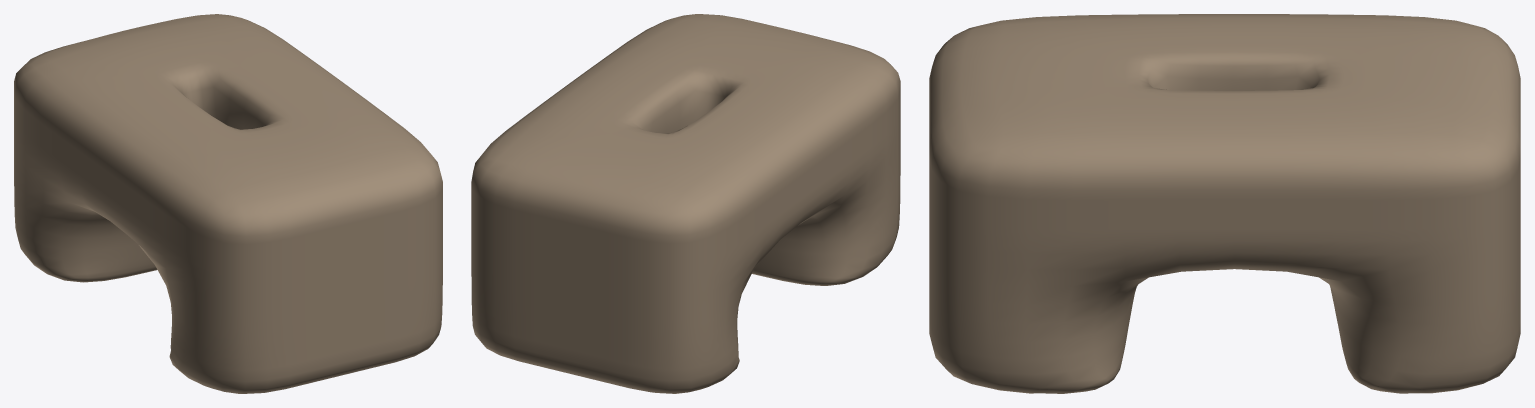
File: Small_Chair.fbx
3 views of the same model, side by side, from view 1: azimuth 30°, elevation 25°; view 2: azimuth 150°, elevation 25°; view 3: azimuth 270°, elevation 25° (orthographic). The views are drawn at different scales.
Parts seen in each view (by area): view 1: small_chair; view 2: small_chair; view 3: small_chair.
Part boxes in pixels (x1=…): small_chair: x1=14, y1=14, x2=442, y2=393; small_chair: x1=471, y1=14, x2=900, y2=393; small_chair: x1=929, y1=14, x2=1520, y2=393.
Size of the model in its own units: 0.2877 by 0.2255 by 0.4662.
